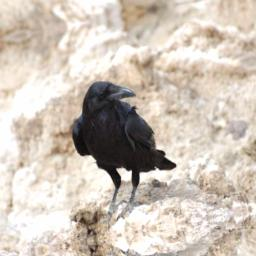Crow: (65, 68, 182, 225)
